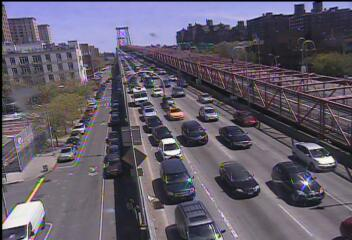neg: (42, 180, 68, 214), (62, 106, 85, 137), (209, 94, 228, 120), (198, 161, 217, 187), (139, 94, 157, 119), (302, 36, 319, 60), (139, 48, 156, 71), (32, 158, 49, 181), (107, 138, 123, 160), (241, 159, 257, 181), (143, 151, 159, 172), (262, 90, 278, 110), (88, 81, 103, 102), (9, 41, 24, 60), (226, 47, 240, 66), (280, 147, 294, 166), (66, 148, 80, 166), (30, 124, 43, 142), (183, 112, 196, 129), (178, 49, 191, 66), (52, 41, 65, 58), (34, 85, 47, 102), (103, 194, 116, 210), (107, 51, 119, 68), (170, 163, 181, 178), (294, 85, 305, 99)
